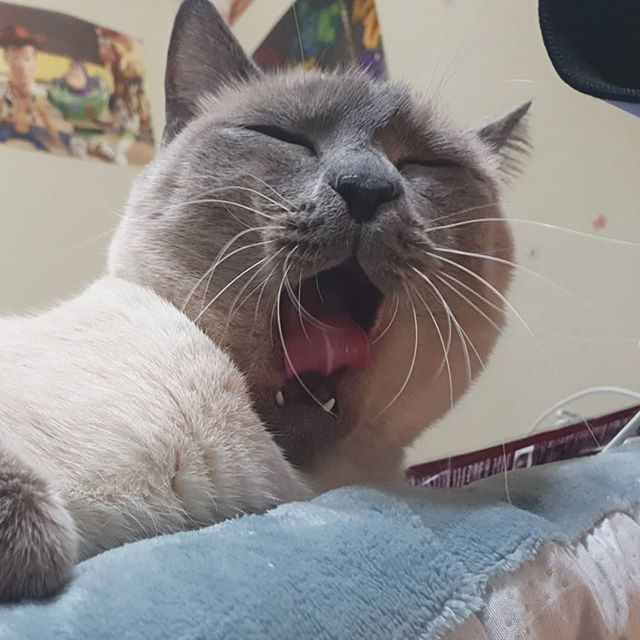cat: (106, 2, 564, 460)
